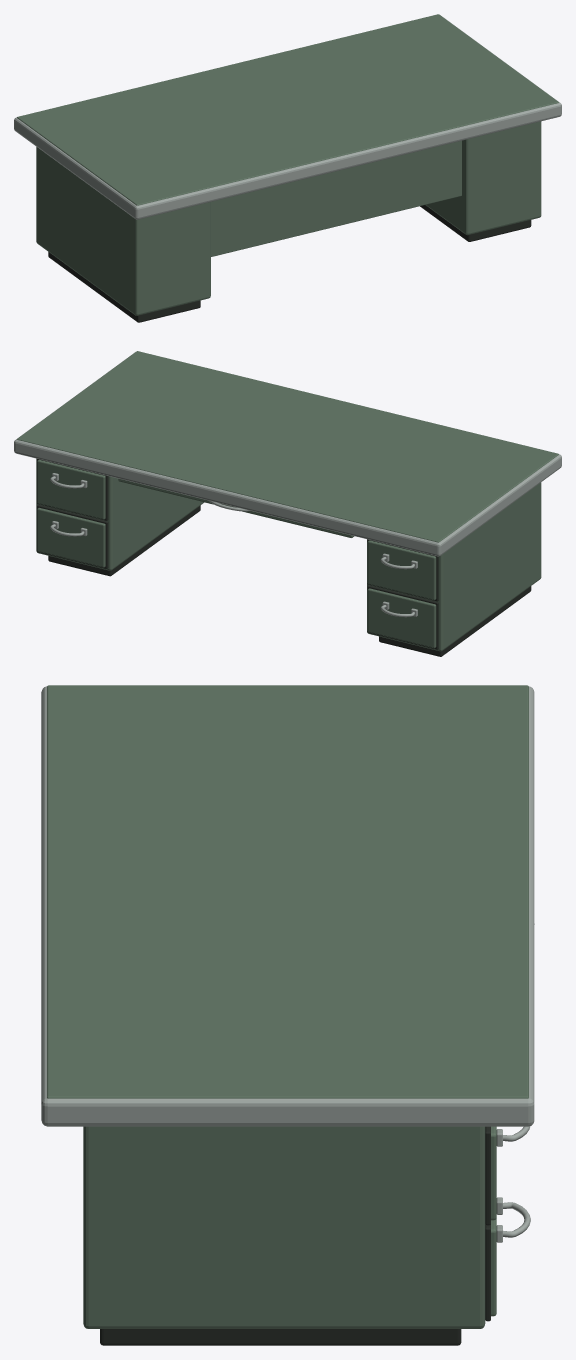
Rendered from A17_Desk.fbx.
The picture shows the model from 3 angles, top to bottom: view 1: azimuth 30°, elevation 25°; view 2: azimuth 150°, elevation 25°; view 3: azimuth 270°, elevation 25°; orthographic projection. The views are drawn at different scales.
Visible parts, largest first — view 1: Desk_Green, Desk_Steel, Desk_Rubber; view 2: Desk_Green, Desk_Steel, Desk_Rubber; view 3: Desk_Green, Desk_Steel, Desk_Rubber.
Part boxes in pixels (box(x1,y1,x2,y2)): Desk_Green: box(17, 14, 558, 315); Desk_Steel: box(14, 15, 561, 219); Desk_Rubber: box(48, 205, 531, 322); Desk_Green: box(17, 351, 558, 651); Desk_Steel: box(14, 352, 561, 617); Desk_Rubber: box(37, 459, 531, 656); Desk_Green: box(47, 685, 528, 1328); Desk_Steel: box(41, 686, 534, 1242); Desk_Rubber: box(100, 1126, 490, 1345).
Size of the model in its own units: 270 by 79.7 by 135.
